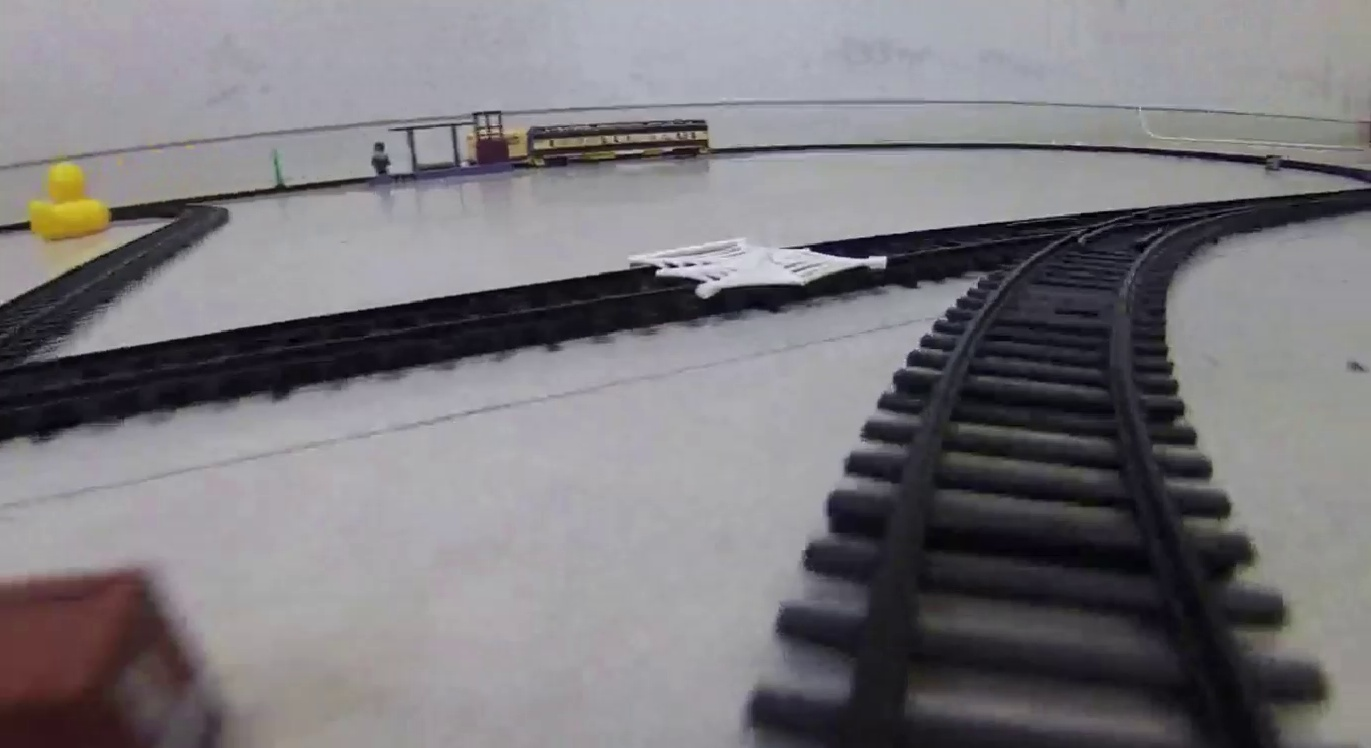web: (636, 235, 886, 300)
